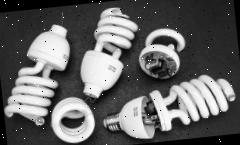lightbulb: (99, 70, 239, 144), (0, 10, 77, 129), (74, 5, 144, 102), (136, 26, 188, 82), (47, 95, 96, 145)
